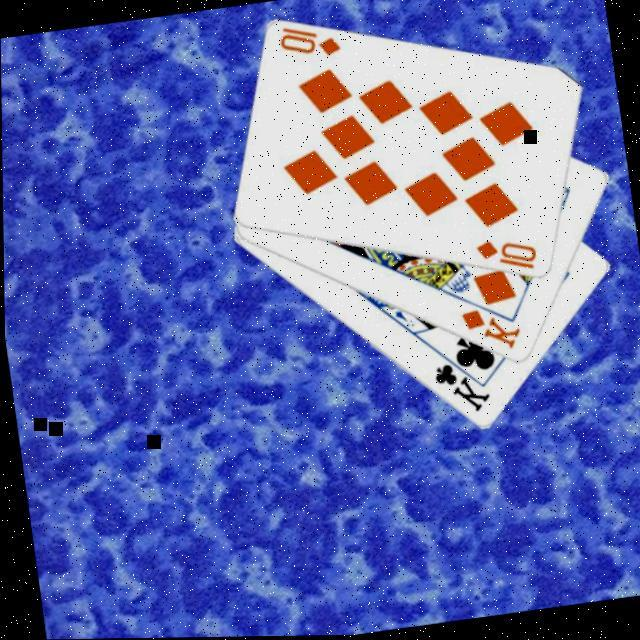10D: (272, 16, 343, 65), (470, 231, 540, 280)
KC: (424, 342, 493, 420)
KD: (454, 300, 525, 358)
